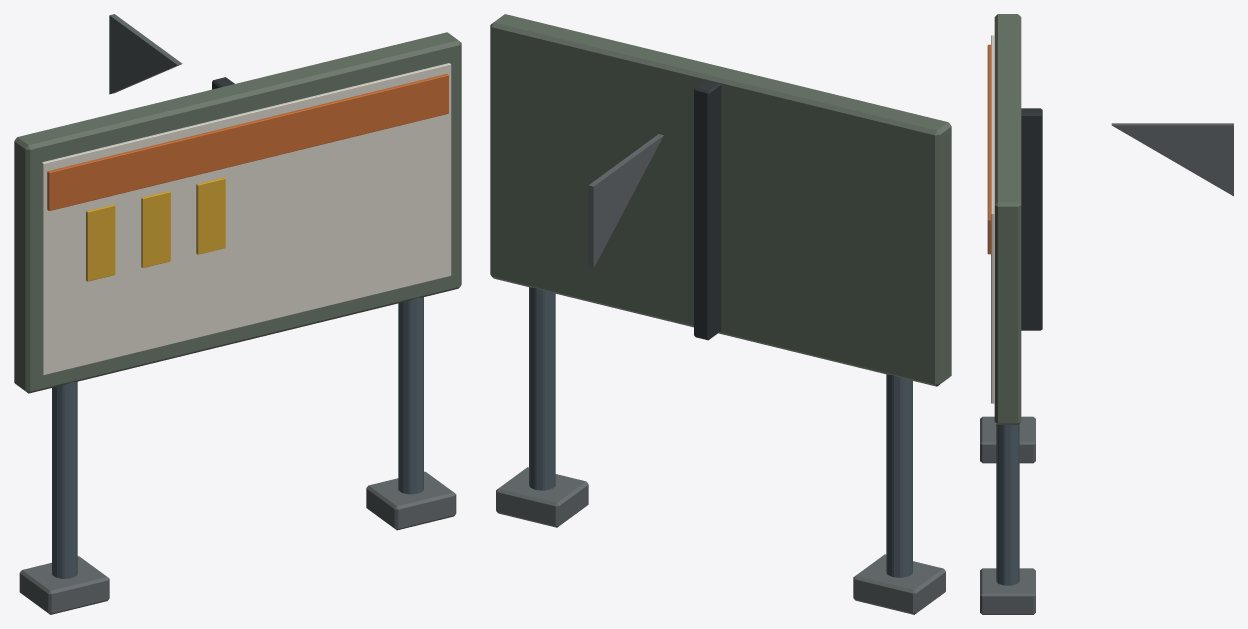
The model's file is PRP_CITY_010_broken_billboard.glb.
3 renders of one model, left to right at view 1: azimuth 30°, elevation 25°; view 2: azimuth 150°, elevation 25°; view 3: azimuth 270°, elevation 25°, orthographic. The views are drawn at different scales.
Visible parts, largest first — view 1: PRP_CITY_010_broken_billboard_RenderMesh; view 2: PRP_CITY_010_broken_billboard_RenderMesh; view 3: PRP_CITY_010_broken_billboard_RenderMesh.
Boxes of the visible parts, bbox=[...] form: PRP_CITY_010_broken_billboard_RenderMesh: bbox=[14, 14, 461, 614]; PRP_CITY_010_broken_billboard_RenderMesh: bbox=[490, 14, 951, 614]; PRP_CITY_010_broken_billboard_RenderMesh: bbox=[980, 14, 1233, 614].
Size of the model in its own units: 3.4 by 3.47 by 1.91.
